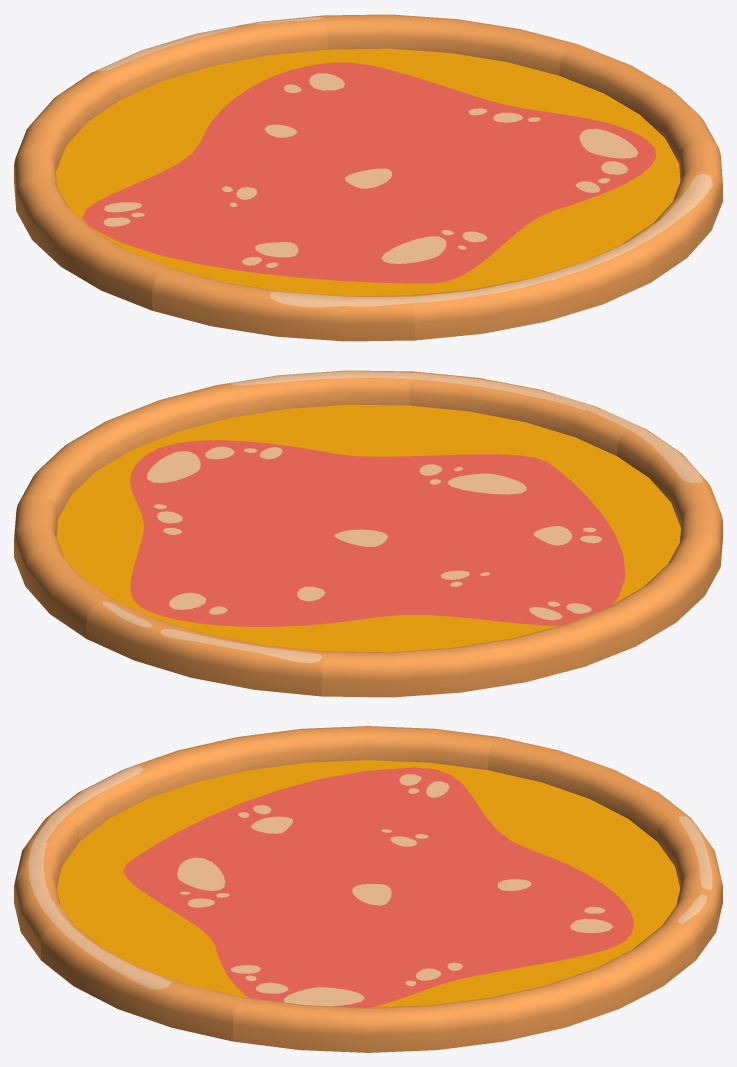
File: Dough Mustard A.fbx
3 renders of one model, top to bottom at view 1: azimuth 30°, elevation 25°; view 2: azimuth 150°, elevation 25°; view 3: azimuth 270°, elevation 25°, orthographic.
Parts seen in each view (by area): view 1: Dough.087, Dough.083, Dough.086, Dough.082, Dough.088, Dough.084, Dough.085, Dough.089; view 2: Dough.089, Dough.085, Dough.082, Dough.086, Dough.088, Dough.084, Dough.083, Dough.087; view 3: Dough.088, Dough.084, Dough.083, Dough.085, Dough.087, Dough.089, Dough.082, Dough.086.
Part boxes in pixels (<box>): Dough.087: <box>152,181,414,341</box>; Dough.083: <box>323,14,577,180</box>; Dough.086: <box>368,181,650,340</box>; Dough.082: <box>96,15,368,180</box>; Dough.088: <box>16,176,367,310</box>; Dough.084: <box>369,44,718,180</box>; Dough.085: <box>369,140,722,282</box>; Dough.089: <box>14,71,367,209</box>; Dough.089: <box>322,537,584,697</box>; Dough.085: <box>159,370,413,536</box>; Dough.082: <box>86,537,368,696</box>; Dough.086: <box>368,371,640,536</box>; Dough.088: <box>369,532,720,666</box>; Dough.084: <box>18,400,367,536</box>; Dough.083: <box>14,496,367,638</box>; Dough.087: <box>369,427,722,565</box>; Dough.088: <box>237,726,499,891</box>; Dough.084: <box>233,892,503,1052</box>; Dough.083: <box>369,892,695,1041</box>; Dough.085: <box>41,892,367,1041</box>; Dough.087: <box>46,737,367,891</box>; Dough.089: <box>369,737,690,891</box>; Dough.082: <box>369,815,722,959</box>; Dough.086: <box>14,815,367,959</box>.
Bounding box in the file's own units: 2 × 0.1032 × 2.
